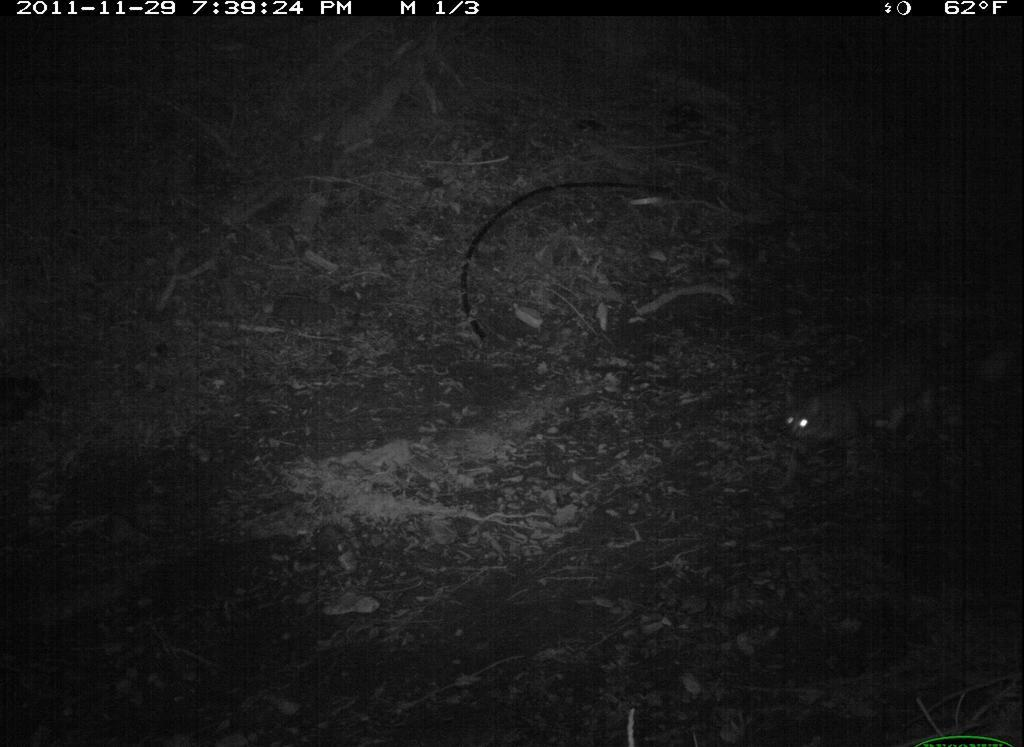cat: (772, 323, 963, 451)
